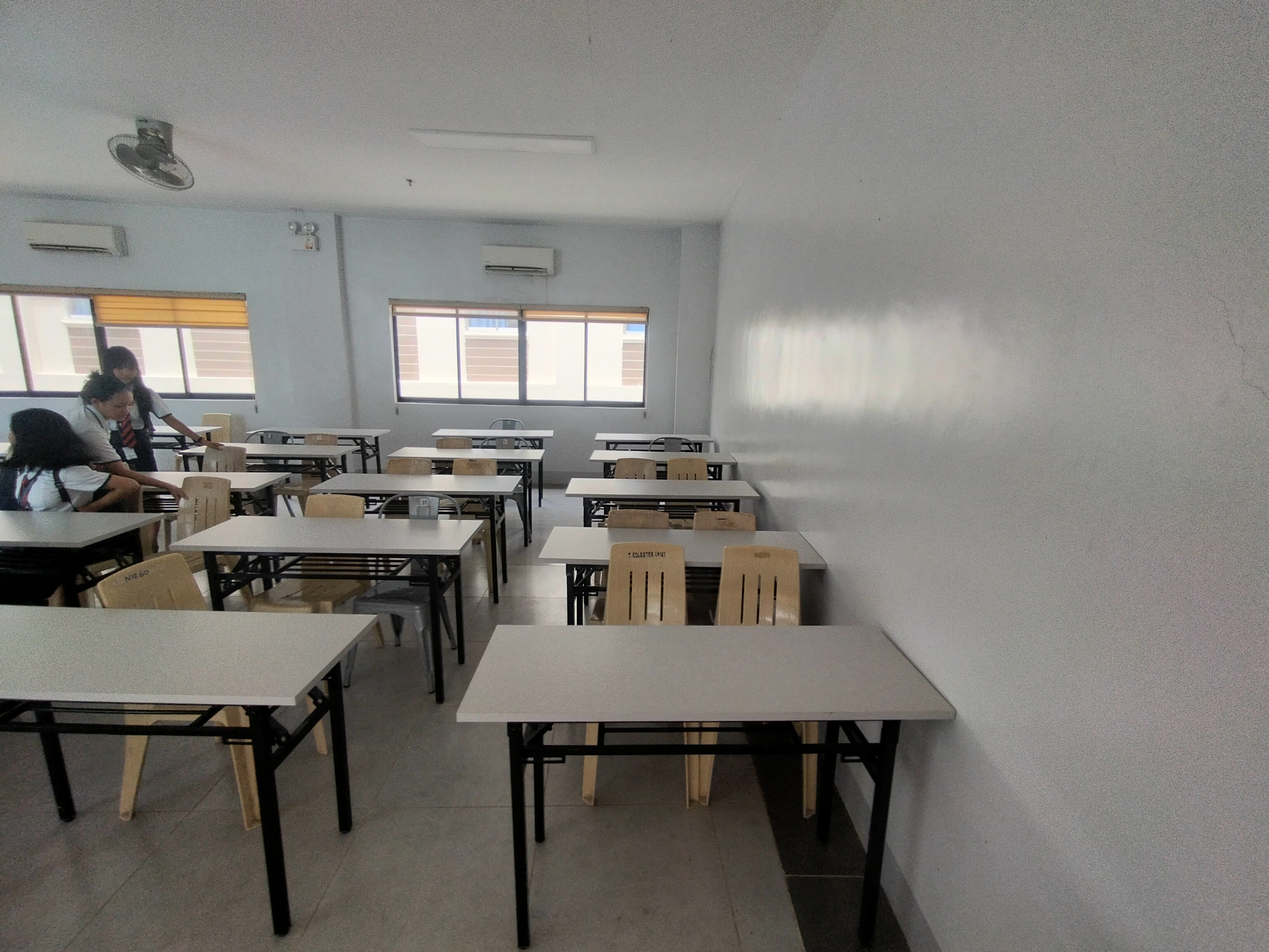with-student: (0, 401, 167, 579)
